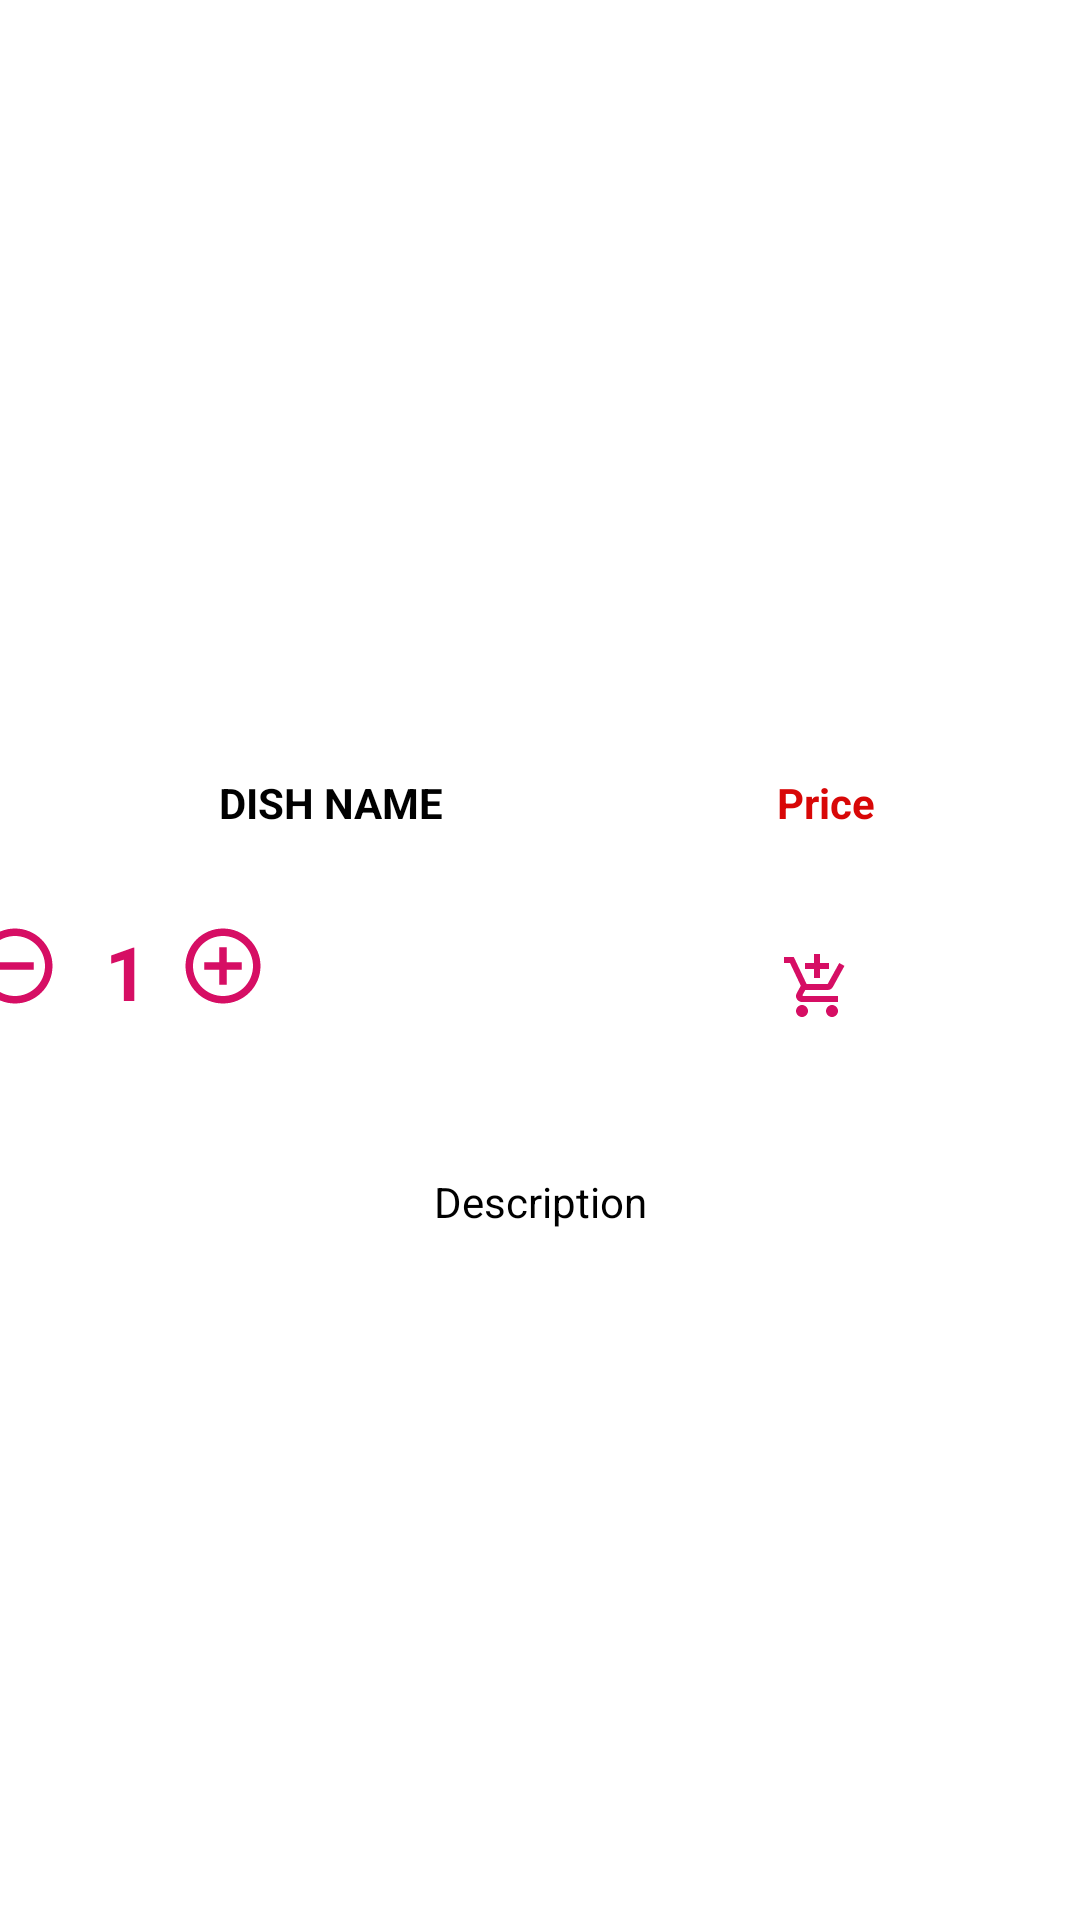

Locate icon controls on the screen. Image size 1080x1920, boxes as (x1, y1, x2, y2).
add cart: (784, 954, 845, 1017)
plus: (185, 928, 261, 1004)
